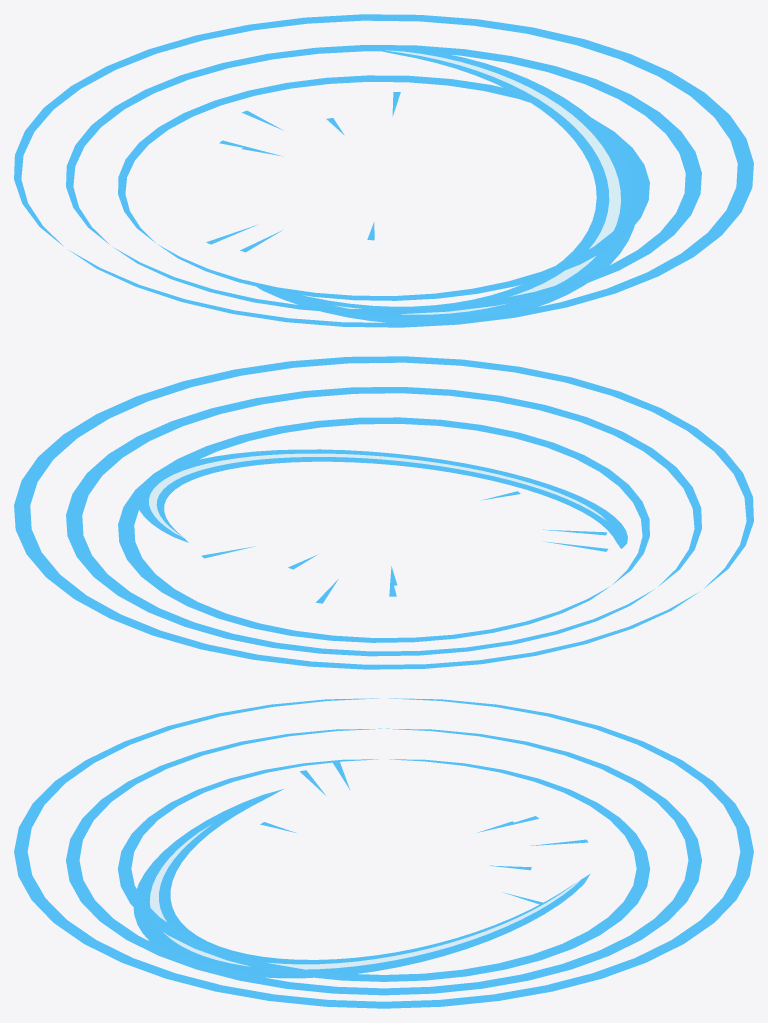
File: Muk_MoonSweep.glb
The picture shows the model from 3 angles, top to bottom: view 1: azimuth 30°, elevation 25°; view 2: azimuth 150°, elevation 25°; view 3: azimuth 270°, elevation 25°; orthographic projection.
Parts seen in each view (by area): view 1: Muk_MoonSweep_Moon2, Muk_MoonSweep_Moon1, Muk_MoonSweep_Blade, Muk_MoonSweep_Moon0, Muk_MoonSweep_Core; view 2: Muk_MoonSweep_Moon2, Muk_MoonSweep_Moon1, Muk_MoonSweep_Moon0, Muk_MoonSweep_Blade, Muk_MoonSweep_Core; view 3: Muk_MoonSweep_Moon2, Muk_MoonSweep_Moon1, Muk_MoonSweep_Moon0, Muk_MoonSweep_Blade, Muk_MoonSweep_Core.
Part boxes in pixels (<box>): Muk_MoonSweep_Moon2: <box>14,14,753,327</box>; Muk_MoonSweep_Moon1: <box>66,45,701,314</box>; Muk_MoonSweep_Blade: <box>248,48,634,322</box>; Muk_MoonSweep_Moon0: <box>118,75,649,300</box>; Muk_MoonSweep_Core: <box>333,50,620,314</box>; Muk_MoonSweep_Moon2: <box>14,356,753,669</box>; Muk_MoonSweep_Moon1: <box>66,387,701,656</box>; Muk_MoonSweep_Moon0: <box>118,417,649,642</box>; Muk_MoonSweep_Blade: <box>136,449,627,548</box>; Muk_MoonSweep_Core: <box>149,453,606,537</box>; Muk_MoonSweep_Moon2: <box>14,698,753,1008</box>; Muk_MoonSweep_Moon1: <box>66,728,701,995</box>; Muk_MoonSweep_Moon0: <box>118,759,649,981</box>; Muk_MoonSweep_Blade: <box>133,789,590,978</box>; Muk_MoonSweep_Core: <box>149,824,582,969</box>.
Size of the model in its own units: 0.00312 by 0.000353 by 0.00314.
